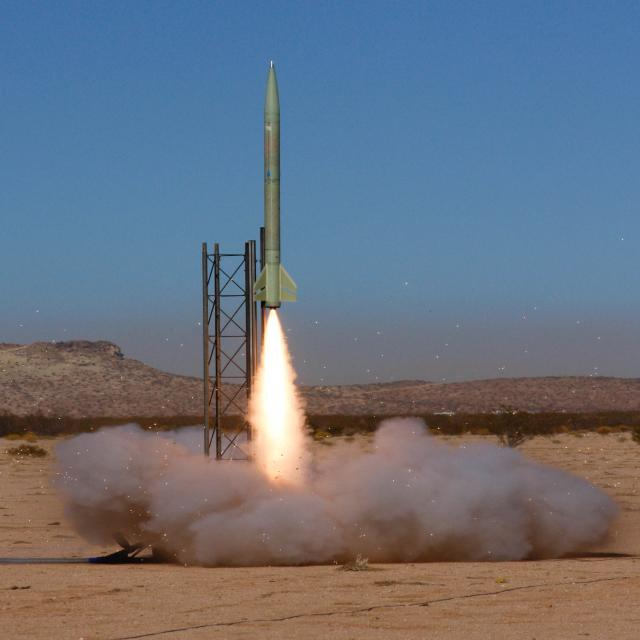Rocket: (252, 58, 299, 310)
